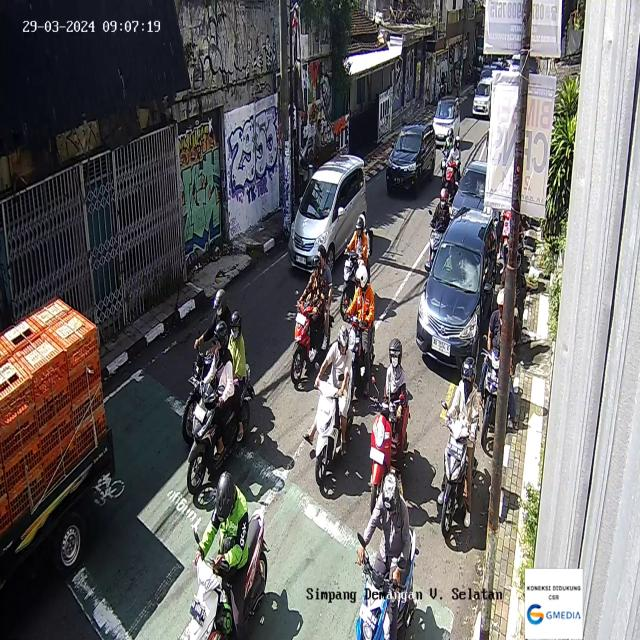car: (417, 208, 497, 370), (288, 153, 368, 274), (385, 121, 436, 194), (450, 160, 499, 230), (433, 95, 460, 146), (472, 77, 492, 119)
motorcycle: (178, 472, 268, 639), (186, 311, 255, 495), (354, 473, 420, 640), (306, 324, 357, 484), (368, 337, 412, 517), (436, 358, 476, 538), (478, 291, 519, 454), (290, 246, 334, 384), (340, 265, 374, 398), (339, 210, 374, 317), (429, 187, 450, 270), (444, 136, 462, 196), (441, 128, 455, 186)
truck: (0, 296, 116, 584)
